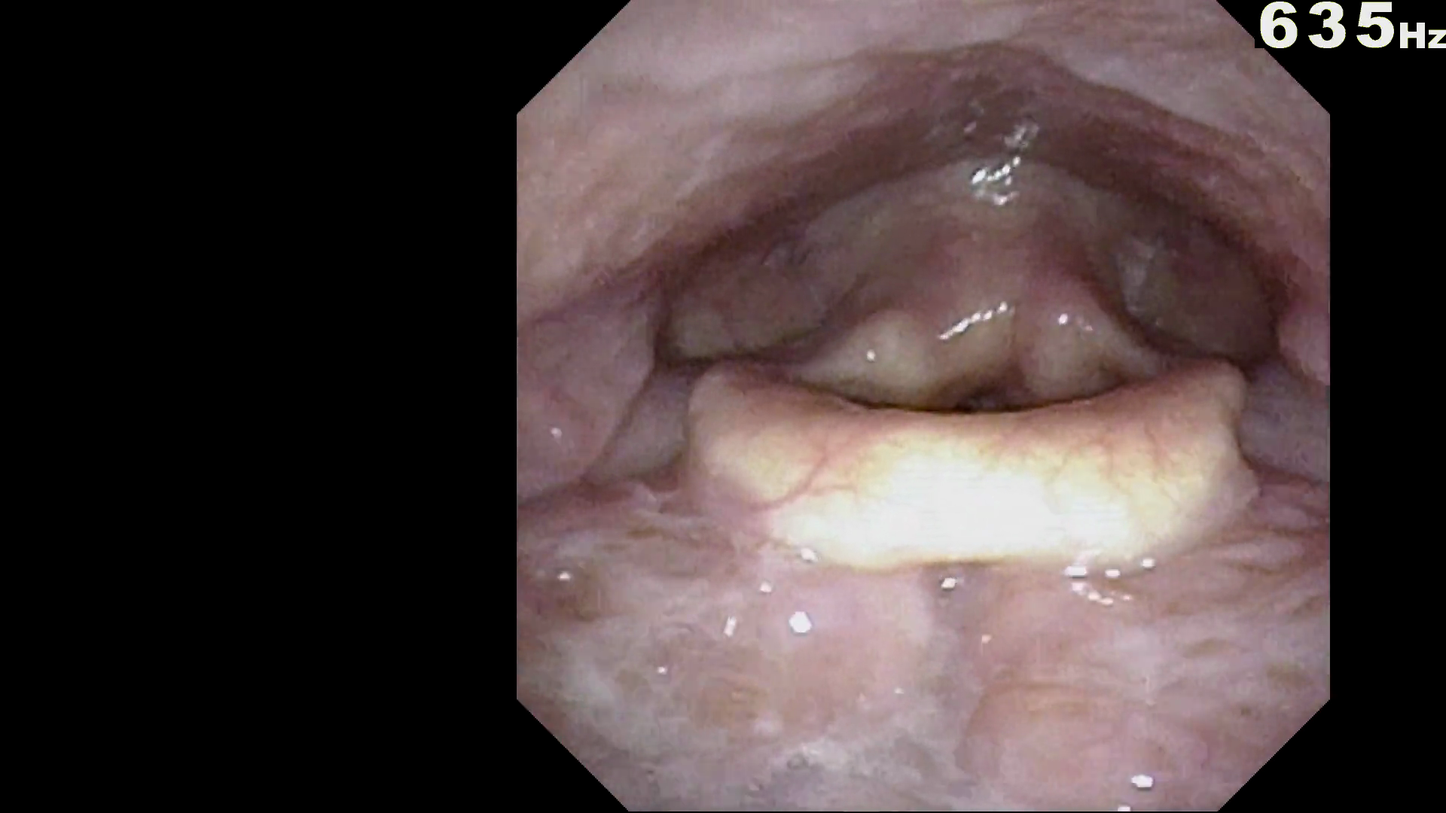epiglottis: (698, 357, 1277, 574)
